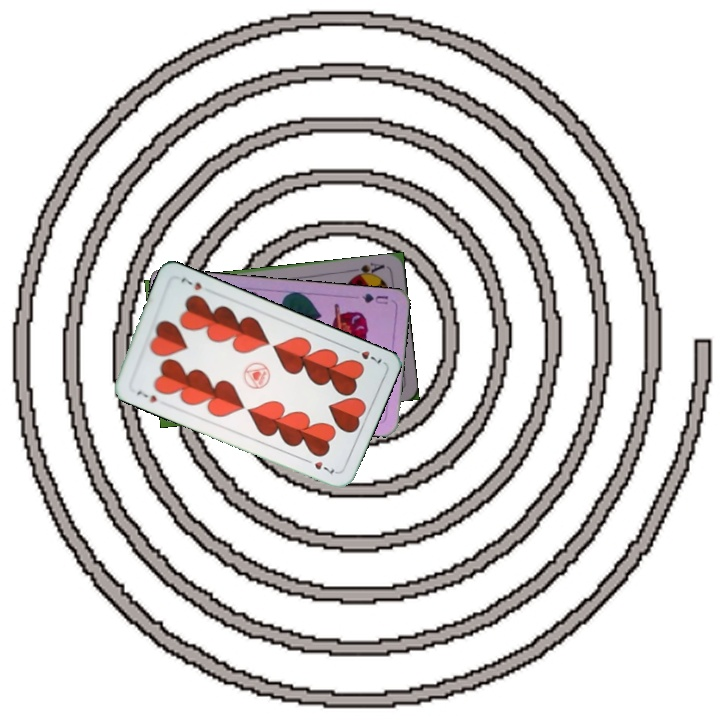GU: (358, 289, 390, 307)
H7: (347, 344, 385, 368), (133, 386, 160, 405)
SA: (349, 259, 387, 280)
